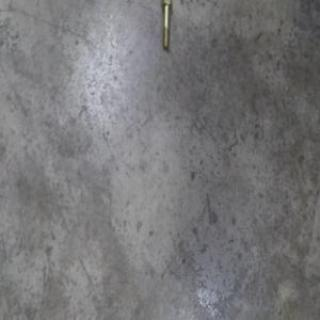Bolttrack_idkeyframe: (158, 0, 172, 49)
